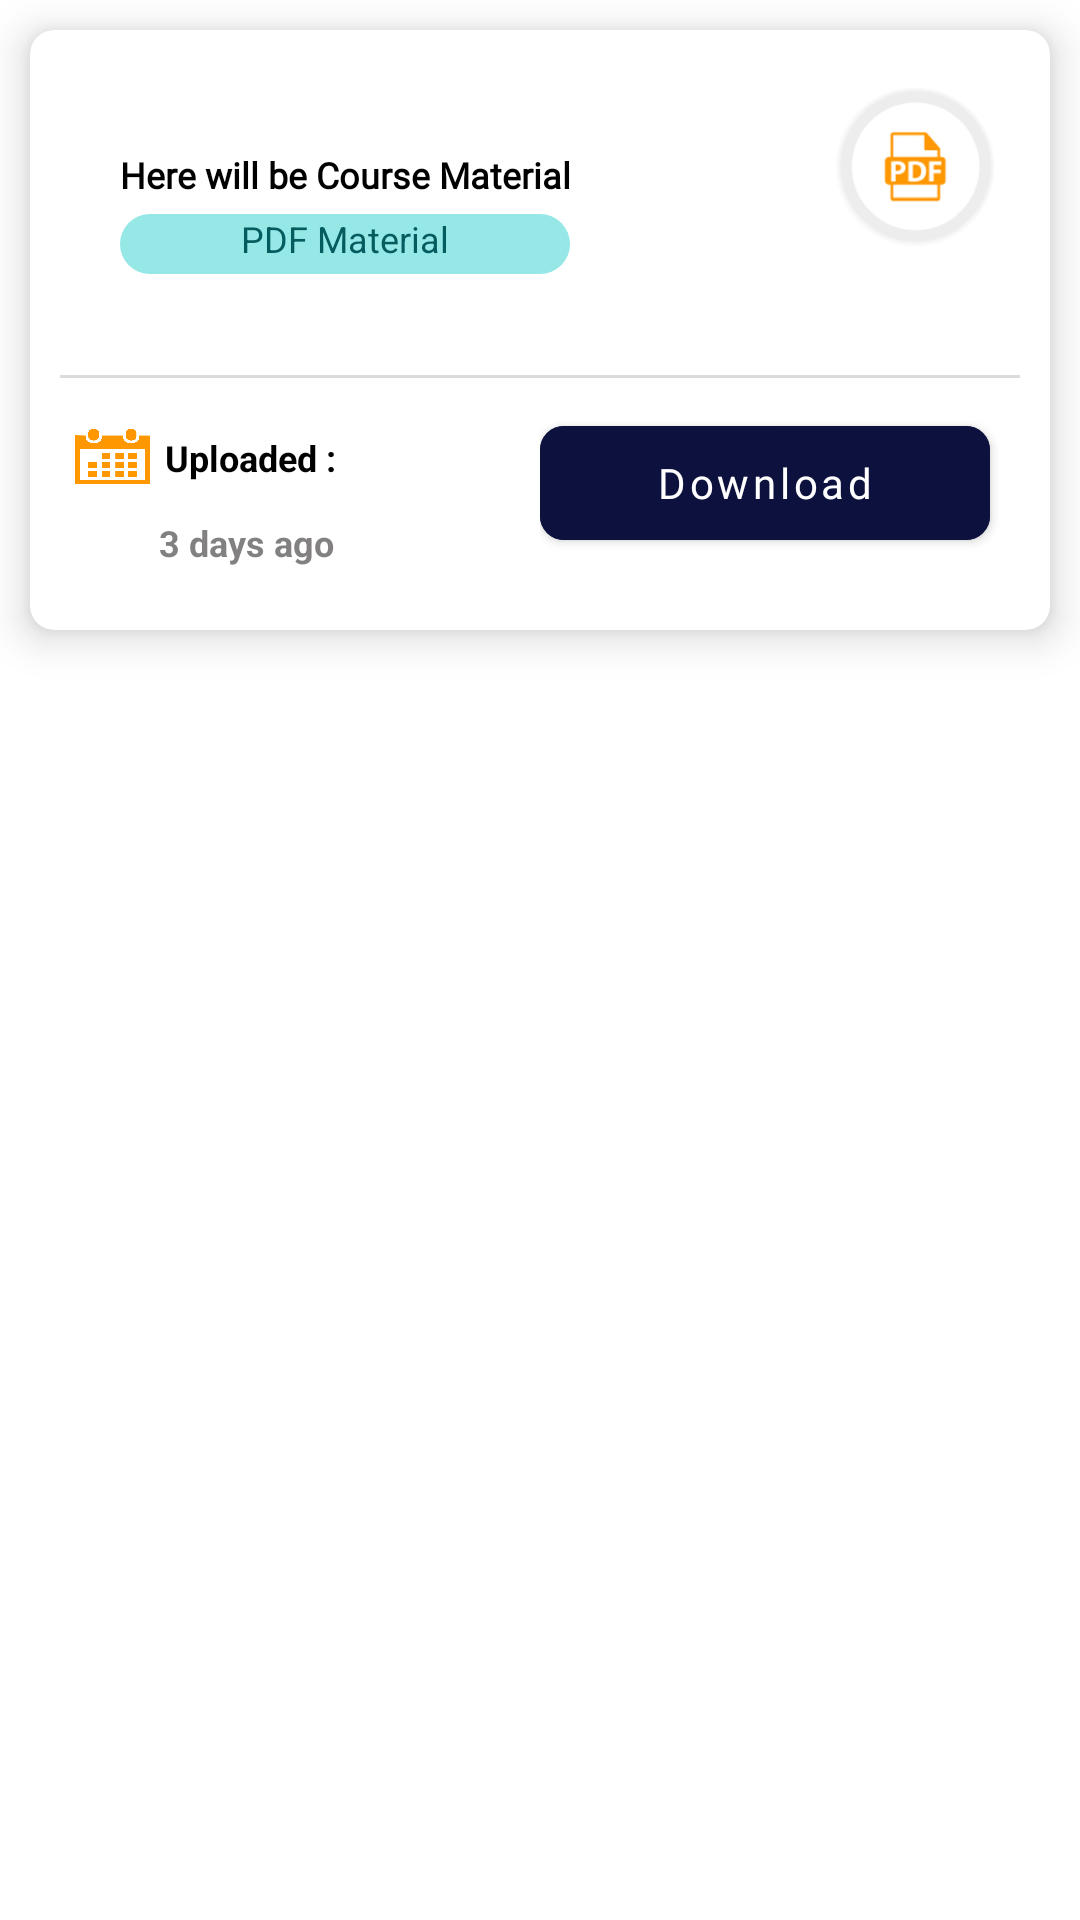

Where to tap for icons on this 1080 x 1920 app screen, as (x,y):
duration: (112,456)
